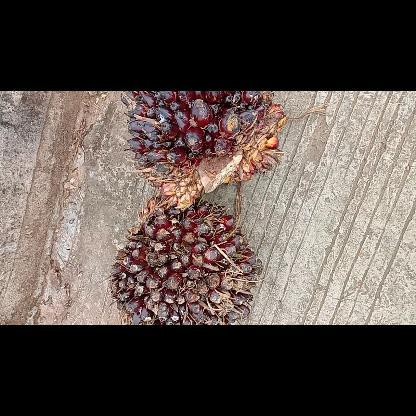TBS mentah: (106, 191, 266, 324), (119, 91, 292, 213)
